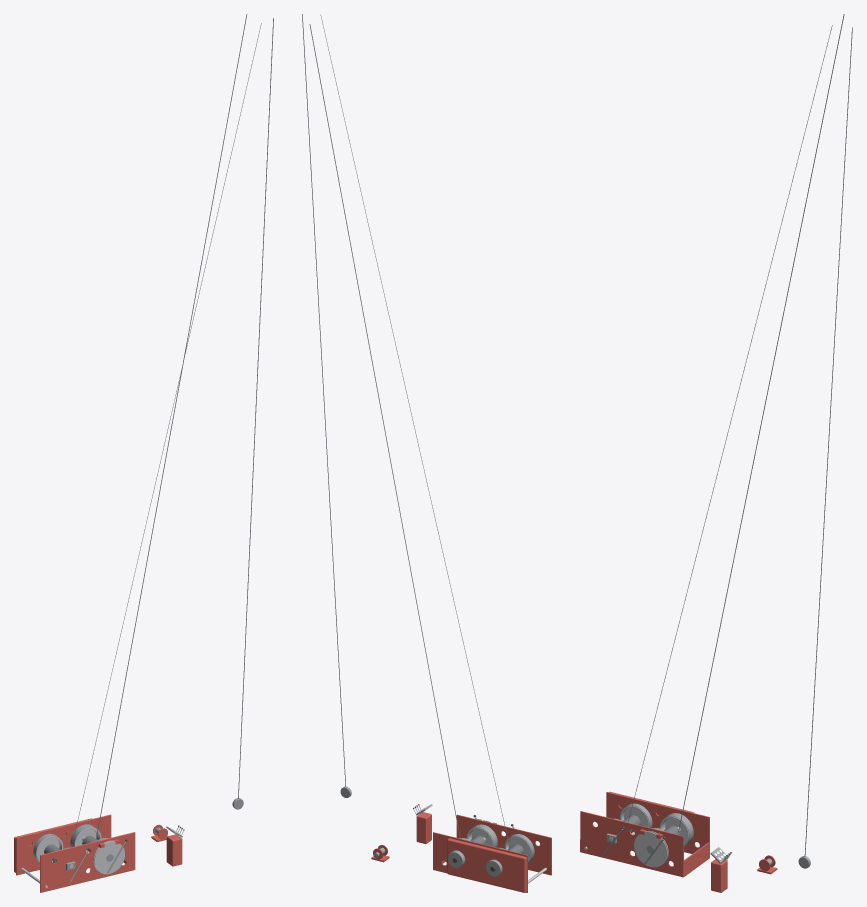
Rendered from sk575_cuadro.glb.
3 views of the same model, side by side, from view 1: azimuth 30°, elevation 25°; view 2: azimuth 150°, elevation 25°; view 3: azimuth 330°, elevation 25° (orthographic). The views are drawn at different scales.
Visible parts, largest first — view 1: sk575_cuadro_rojo, sk575_cuadro_cable, sk575_cuadro_acero, sk575_cuadro_acero_oscuro; view 2: sk575_cuadro_rojo, sk575_cuadro_cable, sk575_cuadro_acero_oscuro, sk575_cuadro_acero; view 3: sk575_cuadro_rojo, sk575_cuadro_cable, sk575_cuadro_acero, sk575_cuadro_acero_oscuro.
Boxes of the visible parts, x1,y1,x2,y2 form: sk575_cuadro_rojo: (14, 814, 184, 892); sk575_cuadro_cable: (44, 14, 273, 860); sk575_cuadro_acero: (21, 827, 183, 888); sk575_cuadro_acero_oscuro: (33, 798, 243, 882); sk575_cuadro_rojo: (371, 804, 551, 892); sk575_cuadro_cable: (302, 14, 523, 853); sk575_cuadro_acero_oscuro: (340, 786, 534, 876); sk575_cuadro_acero: (413, 805, 546, 883); sk575_cuadro_rojo: (580, 791, 777, 892); sk575_cuadro_cable: (623, 14, 852, 856); sk575_cuadro_acero: (584, 806, 730, 867); sk575_cuadro_acero_oscuro: (603, 803, 810, 868).
Size of the model in its own units: 9.7 by 31.07 by 2.57.
